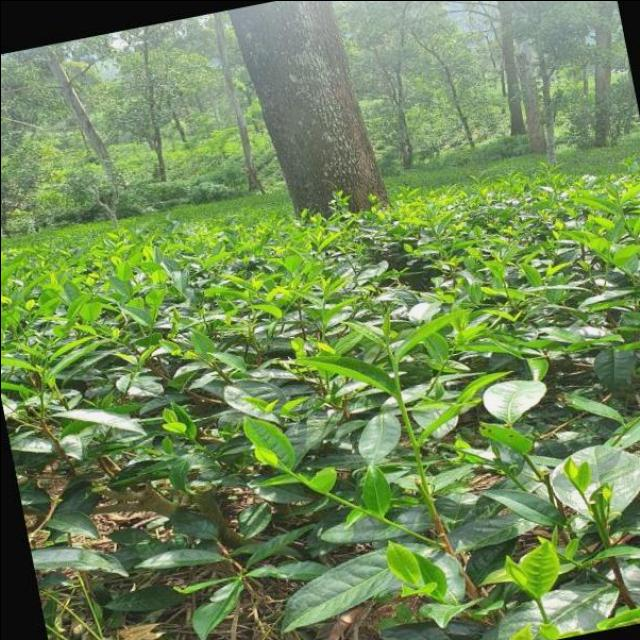Stem: (392, 358, 397, 368), (535, 596, 540, 603), (284, 467, 288, 471)
